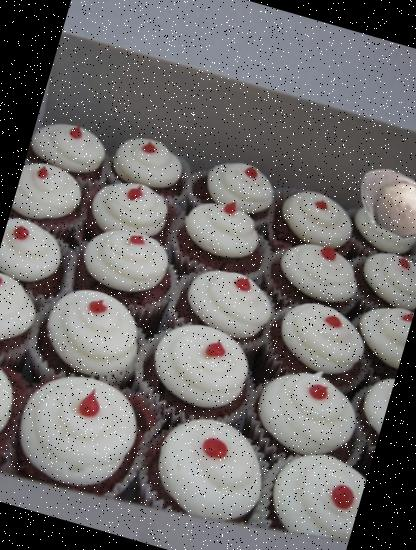Hazelnut: (344, 149, 416, 255)
